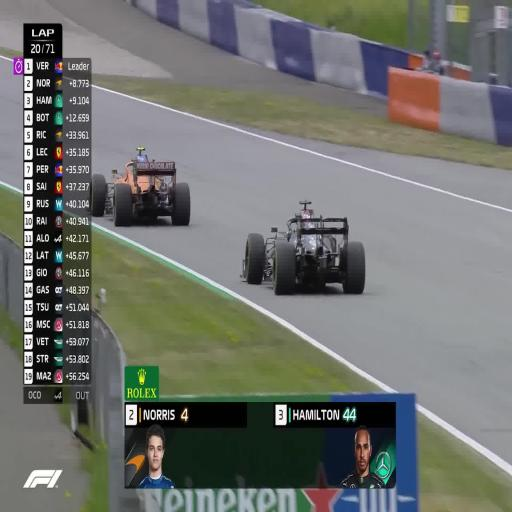f1_car: (240, 201, 365, 293), (89, 146, 190, 225)
